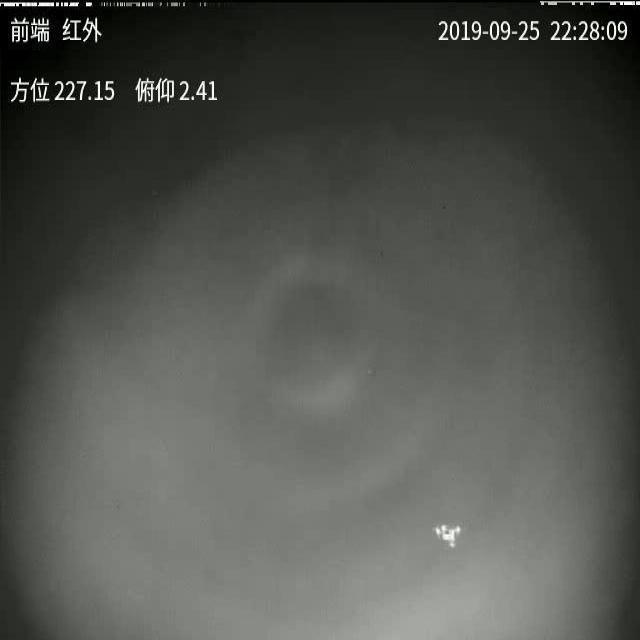drone: (436, 526, 463, 550)
